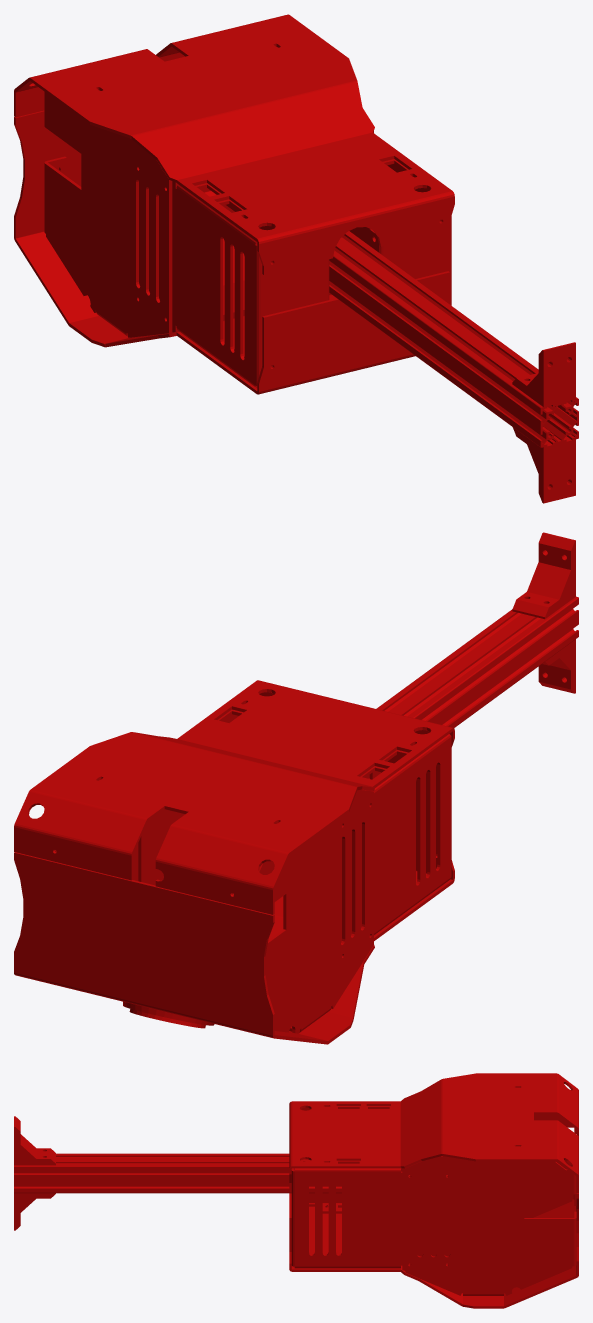
The model's file is reddy_torso.dae.
3 renders of one model, top to bottom at view 1: azimuth 30°, elevation 25°; view 2: azimuth 150°, elevation 25°; view 3: azimuth 270°, elevation 25°, orthographic. The views are drawn at different scales.
Parts seen in each view (by area): view 1: Mesh; view 2: Mesh; view 3: Mesh.
Boxes of the visible parts, bbox=[...] form: Mesh: bbox=[14, 14, 578, 503]; Mesh: bbox=[14, 532, 578, 1044]; Mesh: bbox=[14, 1073, 578, 1308].
Bounding box in the file's own units: 0.27 × 0.7515 × 0.219.
